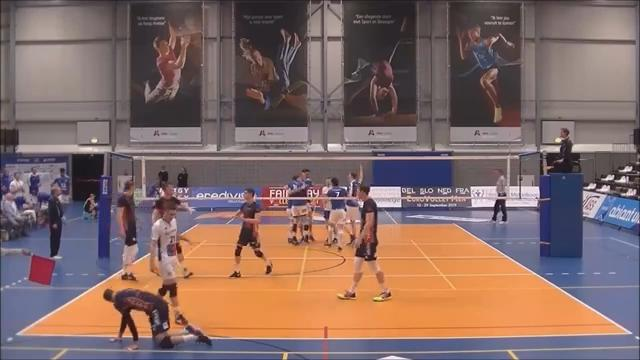Player: (103, 289, 211, 349), (338, 185, 391, 301), (150, 202, 186, 324), (230, 188, 272, 277), (117, 180, 138, 280), (152, 183, 192, 223), (325, 177, 346, 250), (287, 177, 309, 244), (346, 165, 362, 244), (320, 177, 331, 245), (286, 199, 297, 243), (307, 200, 314, 240)
